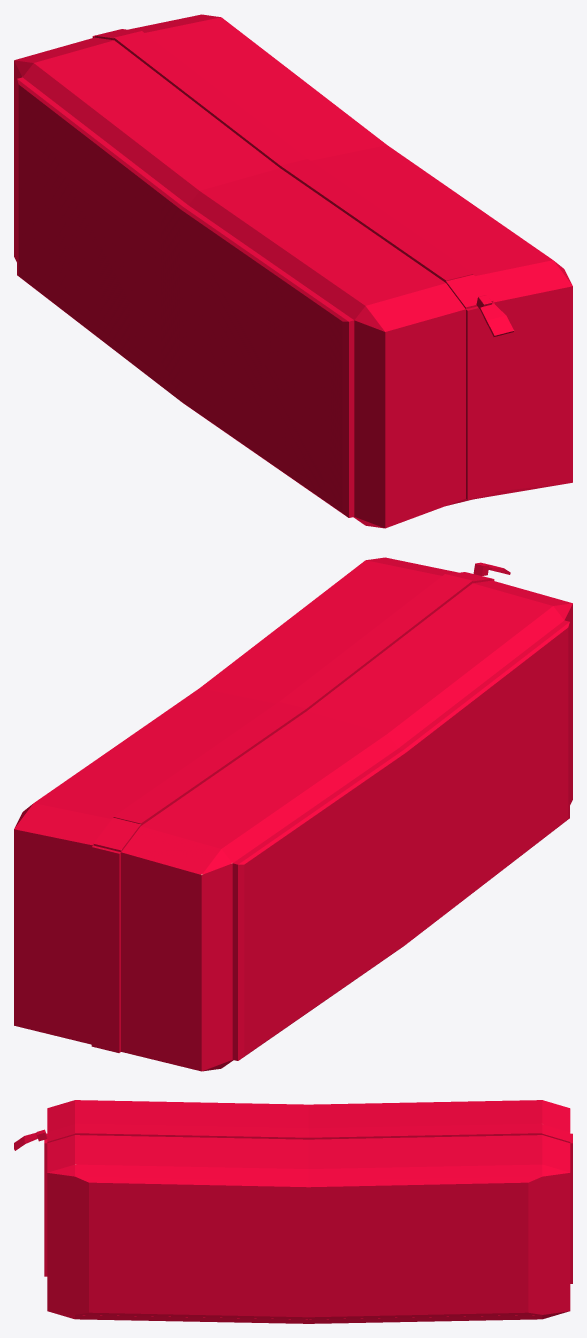
Rendered from Case.fbx.
3 views of the same model, one above another, from view 1: azimuth 30°, elevation 25°; view 2: azimuth 150°, elevation 25°; view 3: azimuth 270°, elevation 25° (orthographic). The views are drawn at different scales.
Parts seen in each view (by area): view 1: Case; view 2: Case; view 3: Case.
Part boxes in pixels (x1=…): Case: x1=14, y1=14, x2=572, y2=528; Case: x1=14, y1=557, x2=572, y2=1071; Case: x1=14, y1=1100, x2=572, y2=1323.
Bounding box in the file's own units: 213 × 211 × 654.
Materials: 1 (1 with a texture image).
